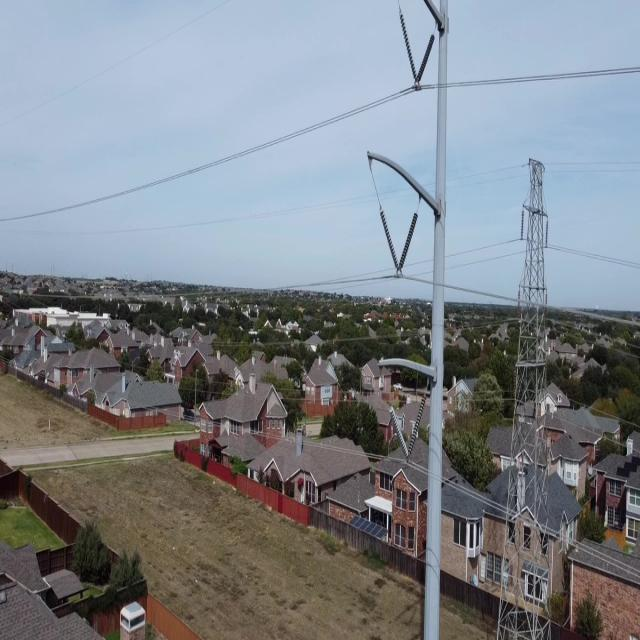杆塔: (491, 150, 558, 640)
正常绝缘子: (378, 205, 402, 275), (398, 9, 420, 85), (396, 210, 420, 275), (414, 33, 436, 87), (544, 220, 550, 248), (520, 210, 525, 240), (544, 286, 548, 314), (517, 290, 521, 313)
